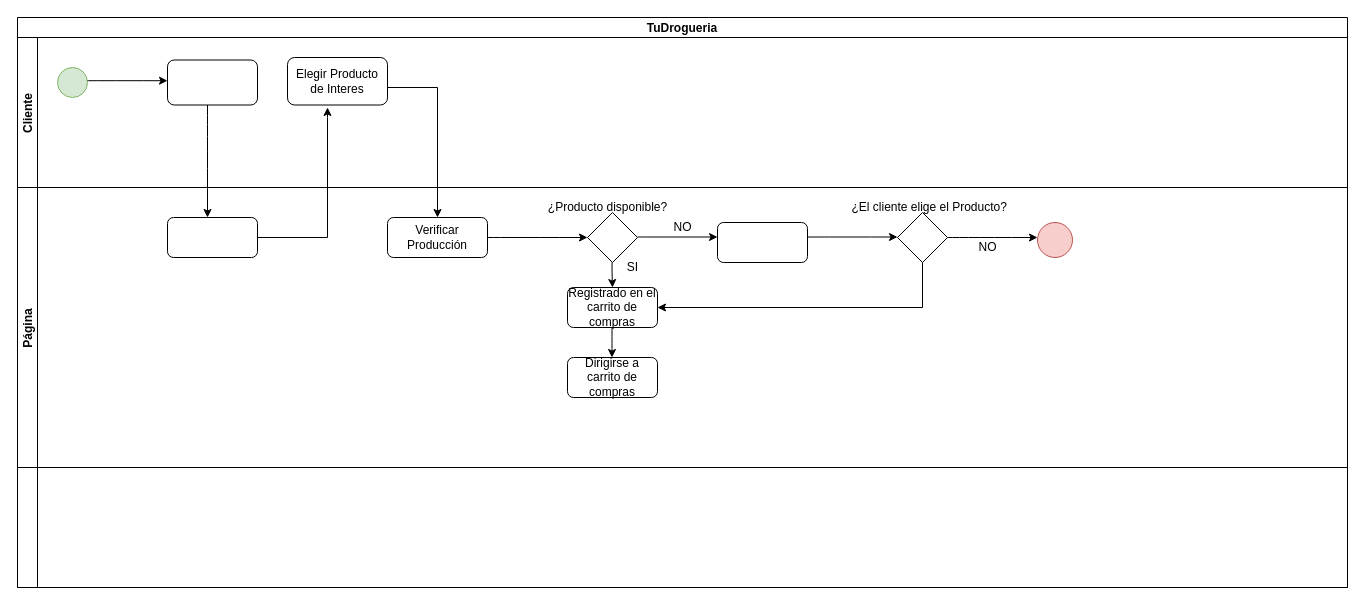
Some shapes in this 1365 by 605 pixel diagram are drawn without their labels. The centre of each missing label's shape, as x and y in pixels:
"Administrador" belongs at point (682, 527).
"Ingresar a la pagina" belongs at point (212, 82).
"Mostrar Productos de Interés" belongs at point (212, 237).
"Mostrar productos similares" belongs at point (762, 242).
